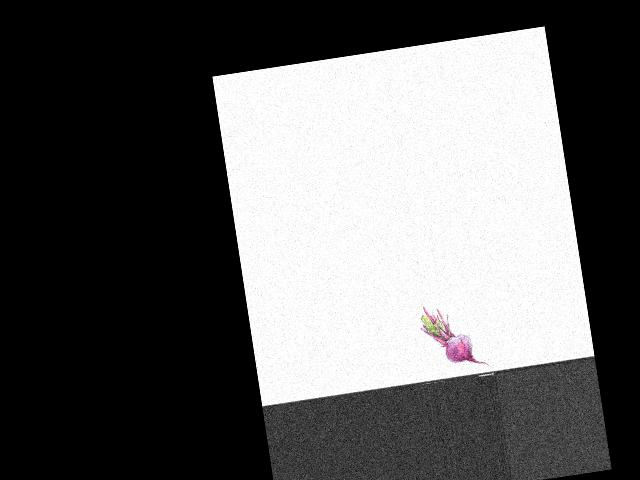beet: (417, 297, 491, 377)
